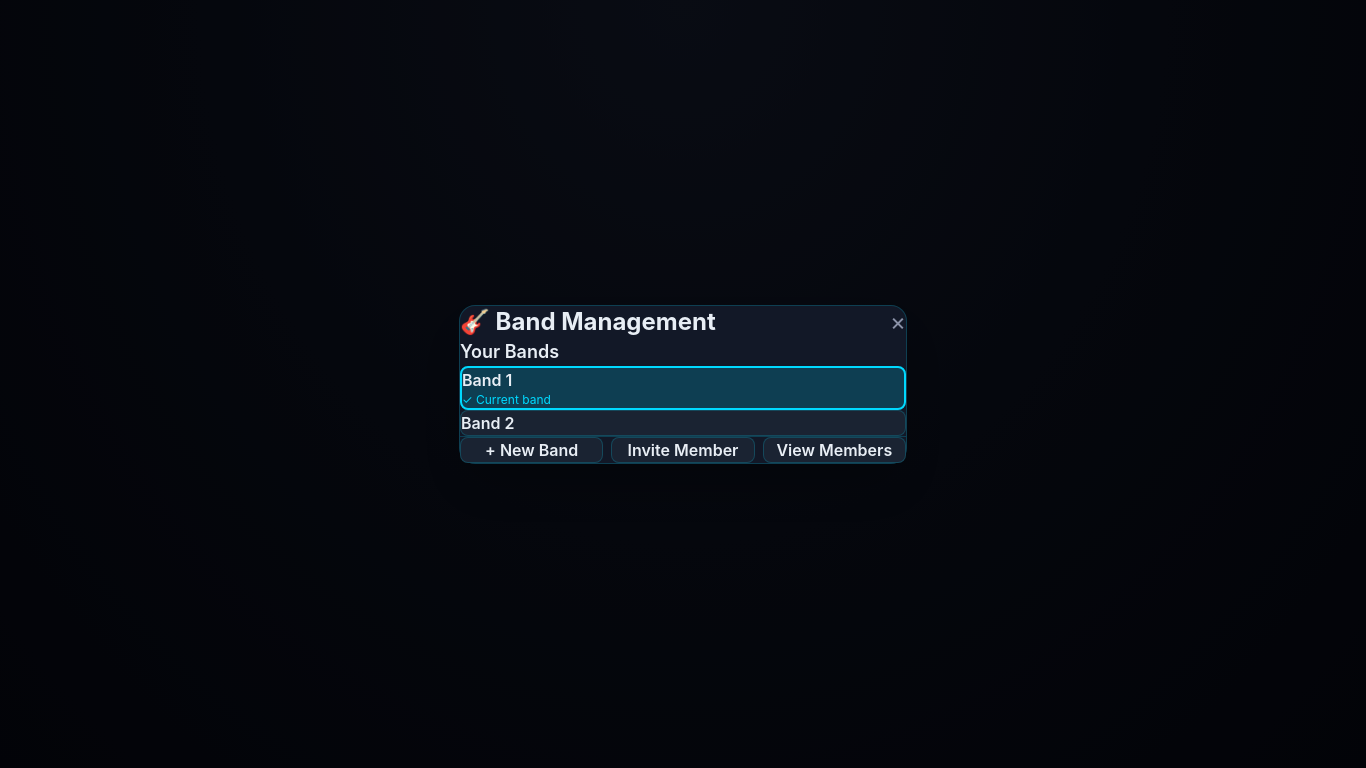
BandModal › should show error message when invite fails
Click the button "Invite Member" at (683, 450), box top-left (611, 436), bottom-right (755, 462)
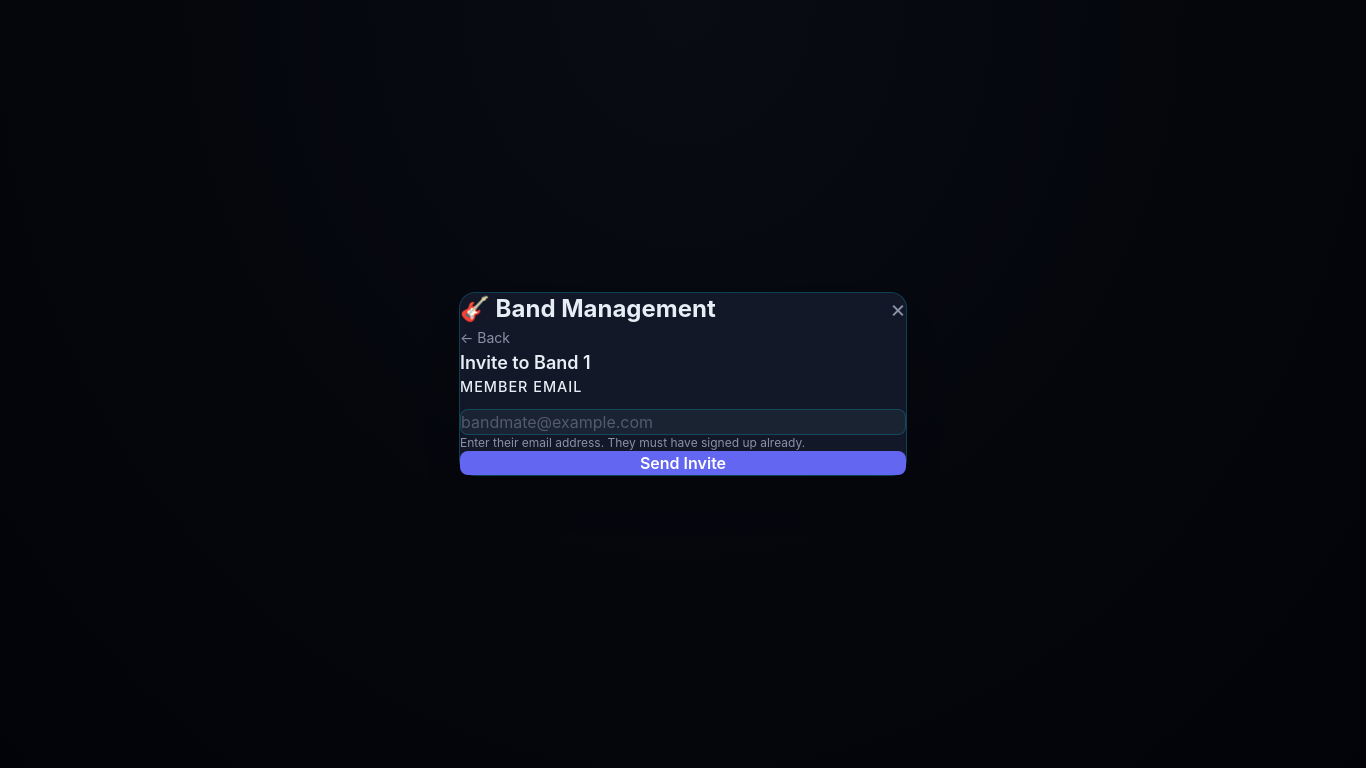
Type "bad@email.com" into the field with placeholder "bandmate@example.com" at (683, 422), box top-left (460, 409), bottom-right (906, 435)
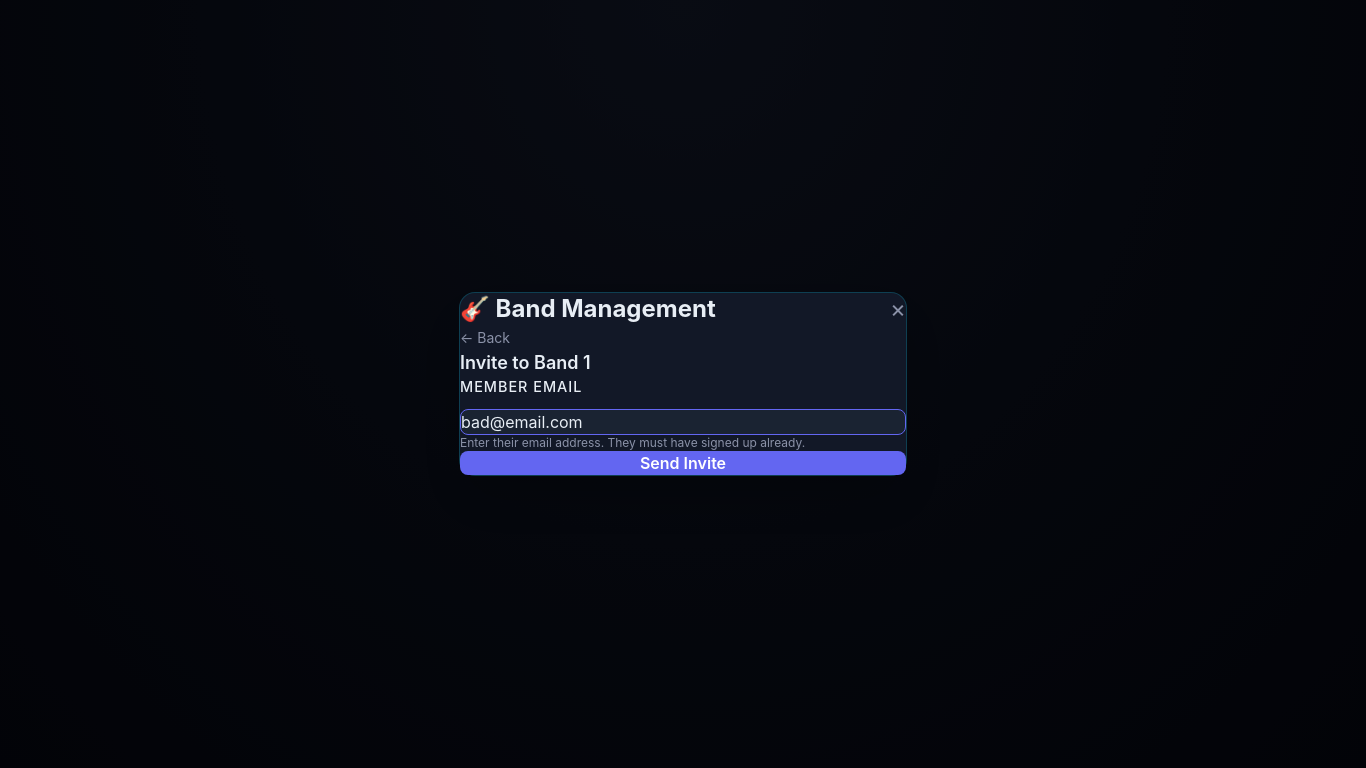
Click the button "Send Invite" at (683, 463), box top-left (460, 451), bottom-right (906, 475)
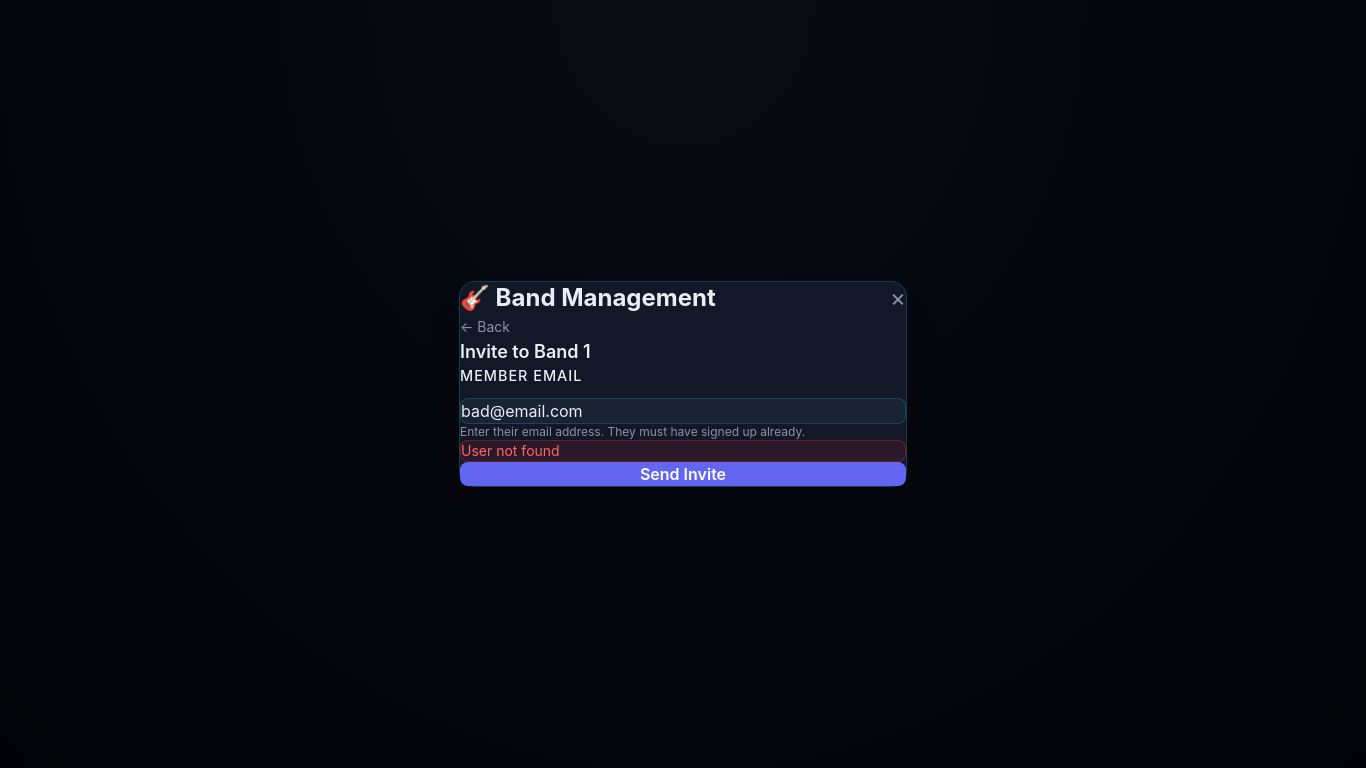
Result: the text "User not found" is shown at top-left (460, 440), bottom-right (906, 462)
